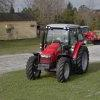Tractor: (21, 15, 87, 87)
